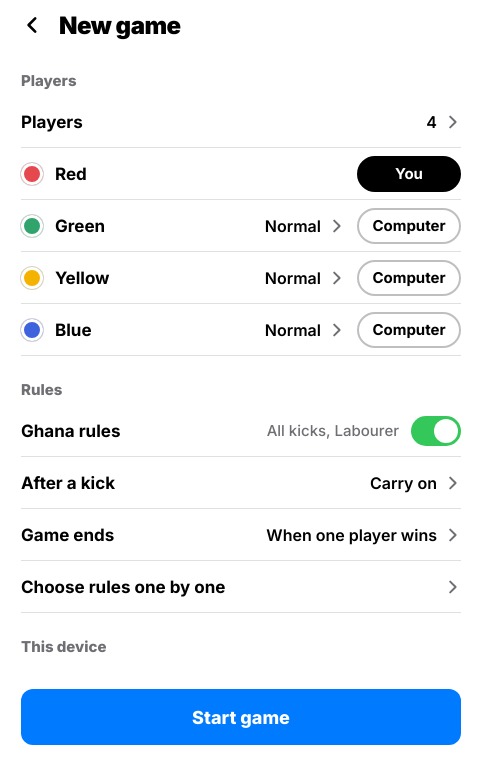
Test: Setup › Ghana rules switch › is on for Ghana, off for Classic, and says what that means
Later steps or results of the test are not shown.
Click the switch labelled "Ghana rules" at point(71, 430), box x1=21 y1=405 x2=461 y2=457
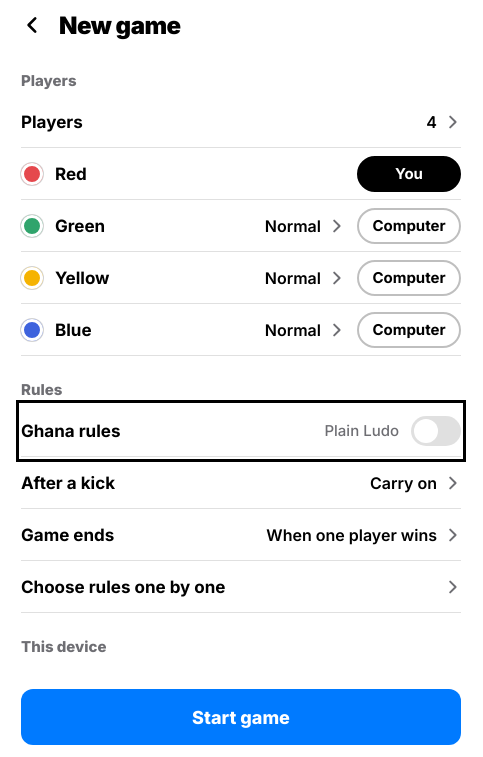
Now the switch labelled "Ghana rules" is not checked, box x1=21 y1=405 x2=461 y2=457
